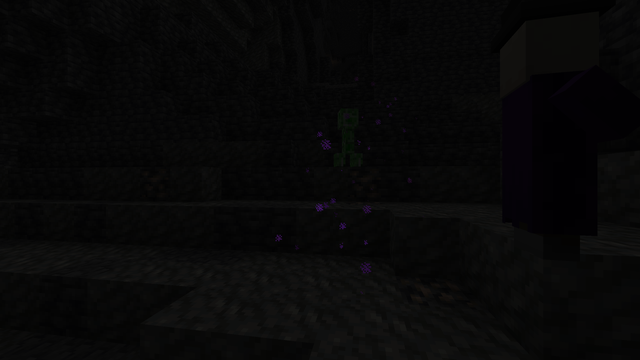creepers: (336, 104, 358, 166)
sorcieres: (488, 0, 618, 265)
